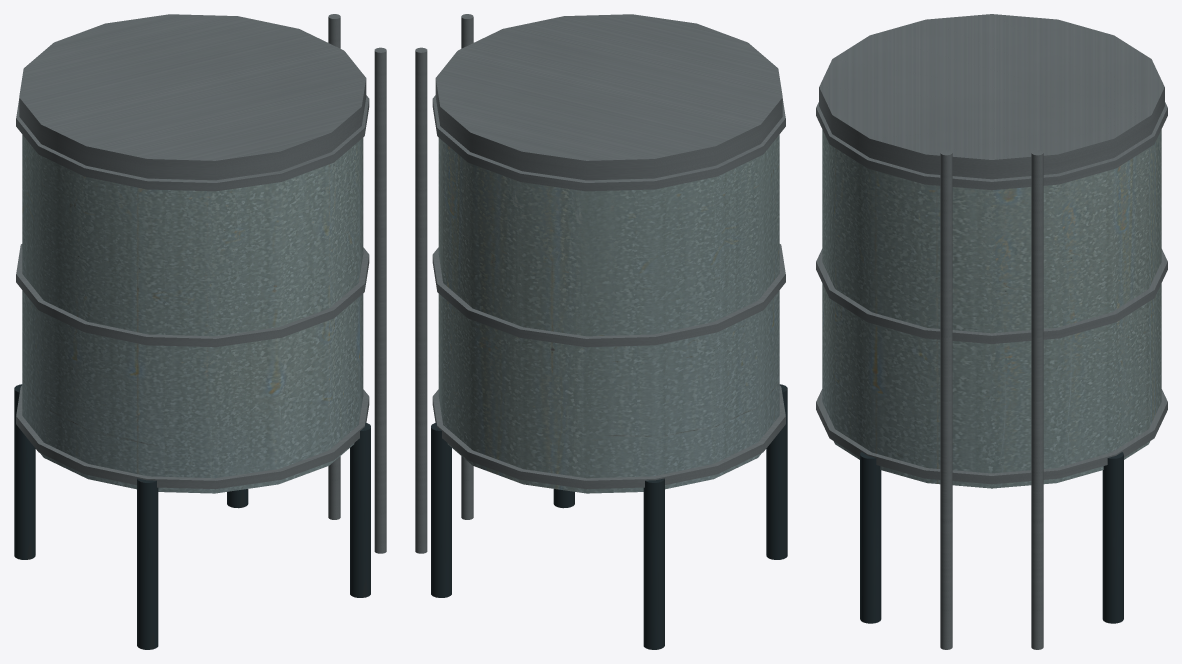
File: NC_WaterTank_LOD1.fbx
3 views of the same model, side by side, from view 1: azimuth 30°, elevation 25°; view 2: azimuth 150°, elevation 25°; view 3: azimuth 270°, elevation 25° (orthographic).
Visible parts, largest first — view 1: NC_WaterTank_LOD1; view 2: NC_WaterTank_LOD1; view 3: NC_WaterTank_LOD1.
Part boxes in pixels (<box>): NC_WaterTank_LOD1: <box>14,14,386,649</box>; NC_WaterTank_LOD1: <box>415,14,787,649</box>; NC_WaterTank_LOD1: <box>816,14,1167,649</box>.
Size of the model in its own units: 244 by 360 by 232.
